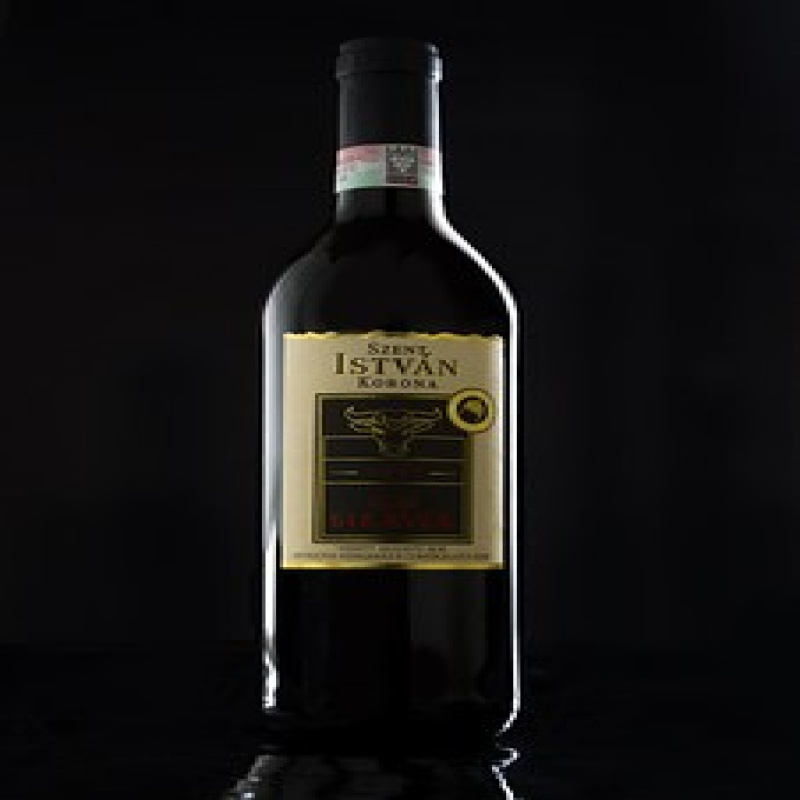wine: (265, 31, 528, 748)
